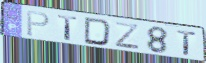8: (145, 26, 170, 55)
D: (83, 17, 113, 47)
P: (25, 10, 51, 38)
T: (57, 14, 80, 42), (175, 29, 198, 57)
Z: (114, 21, 142, 51)
